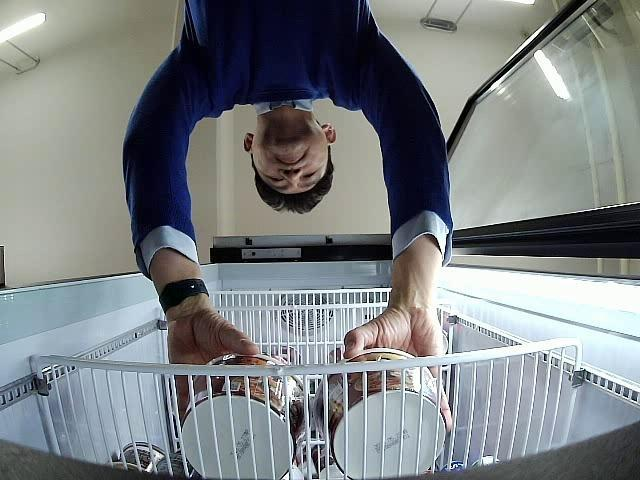05_nuguri_L: (313, 349, 447, 480), (180, 355, 312, 479)
